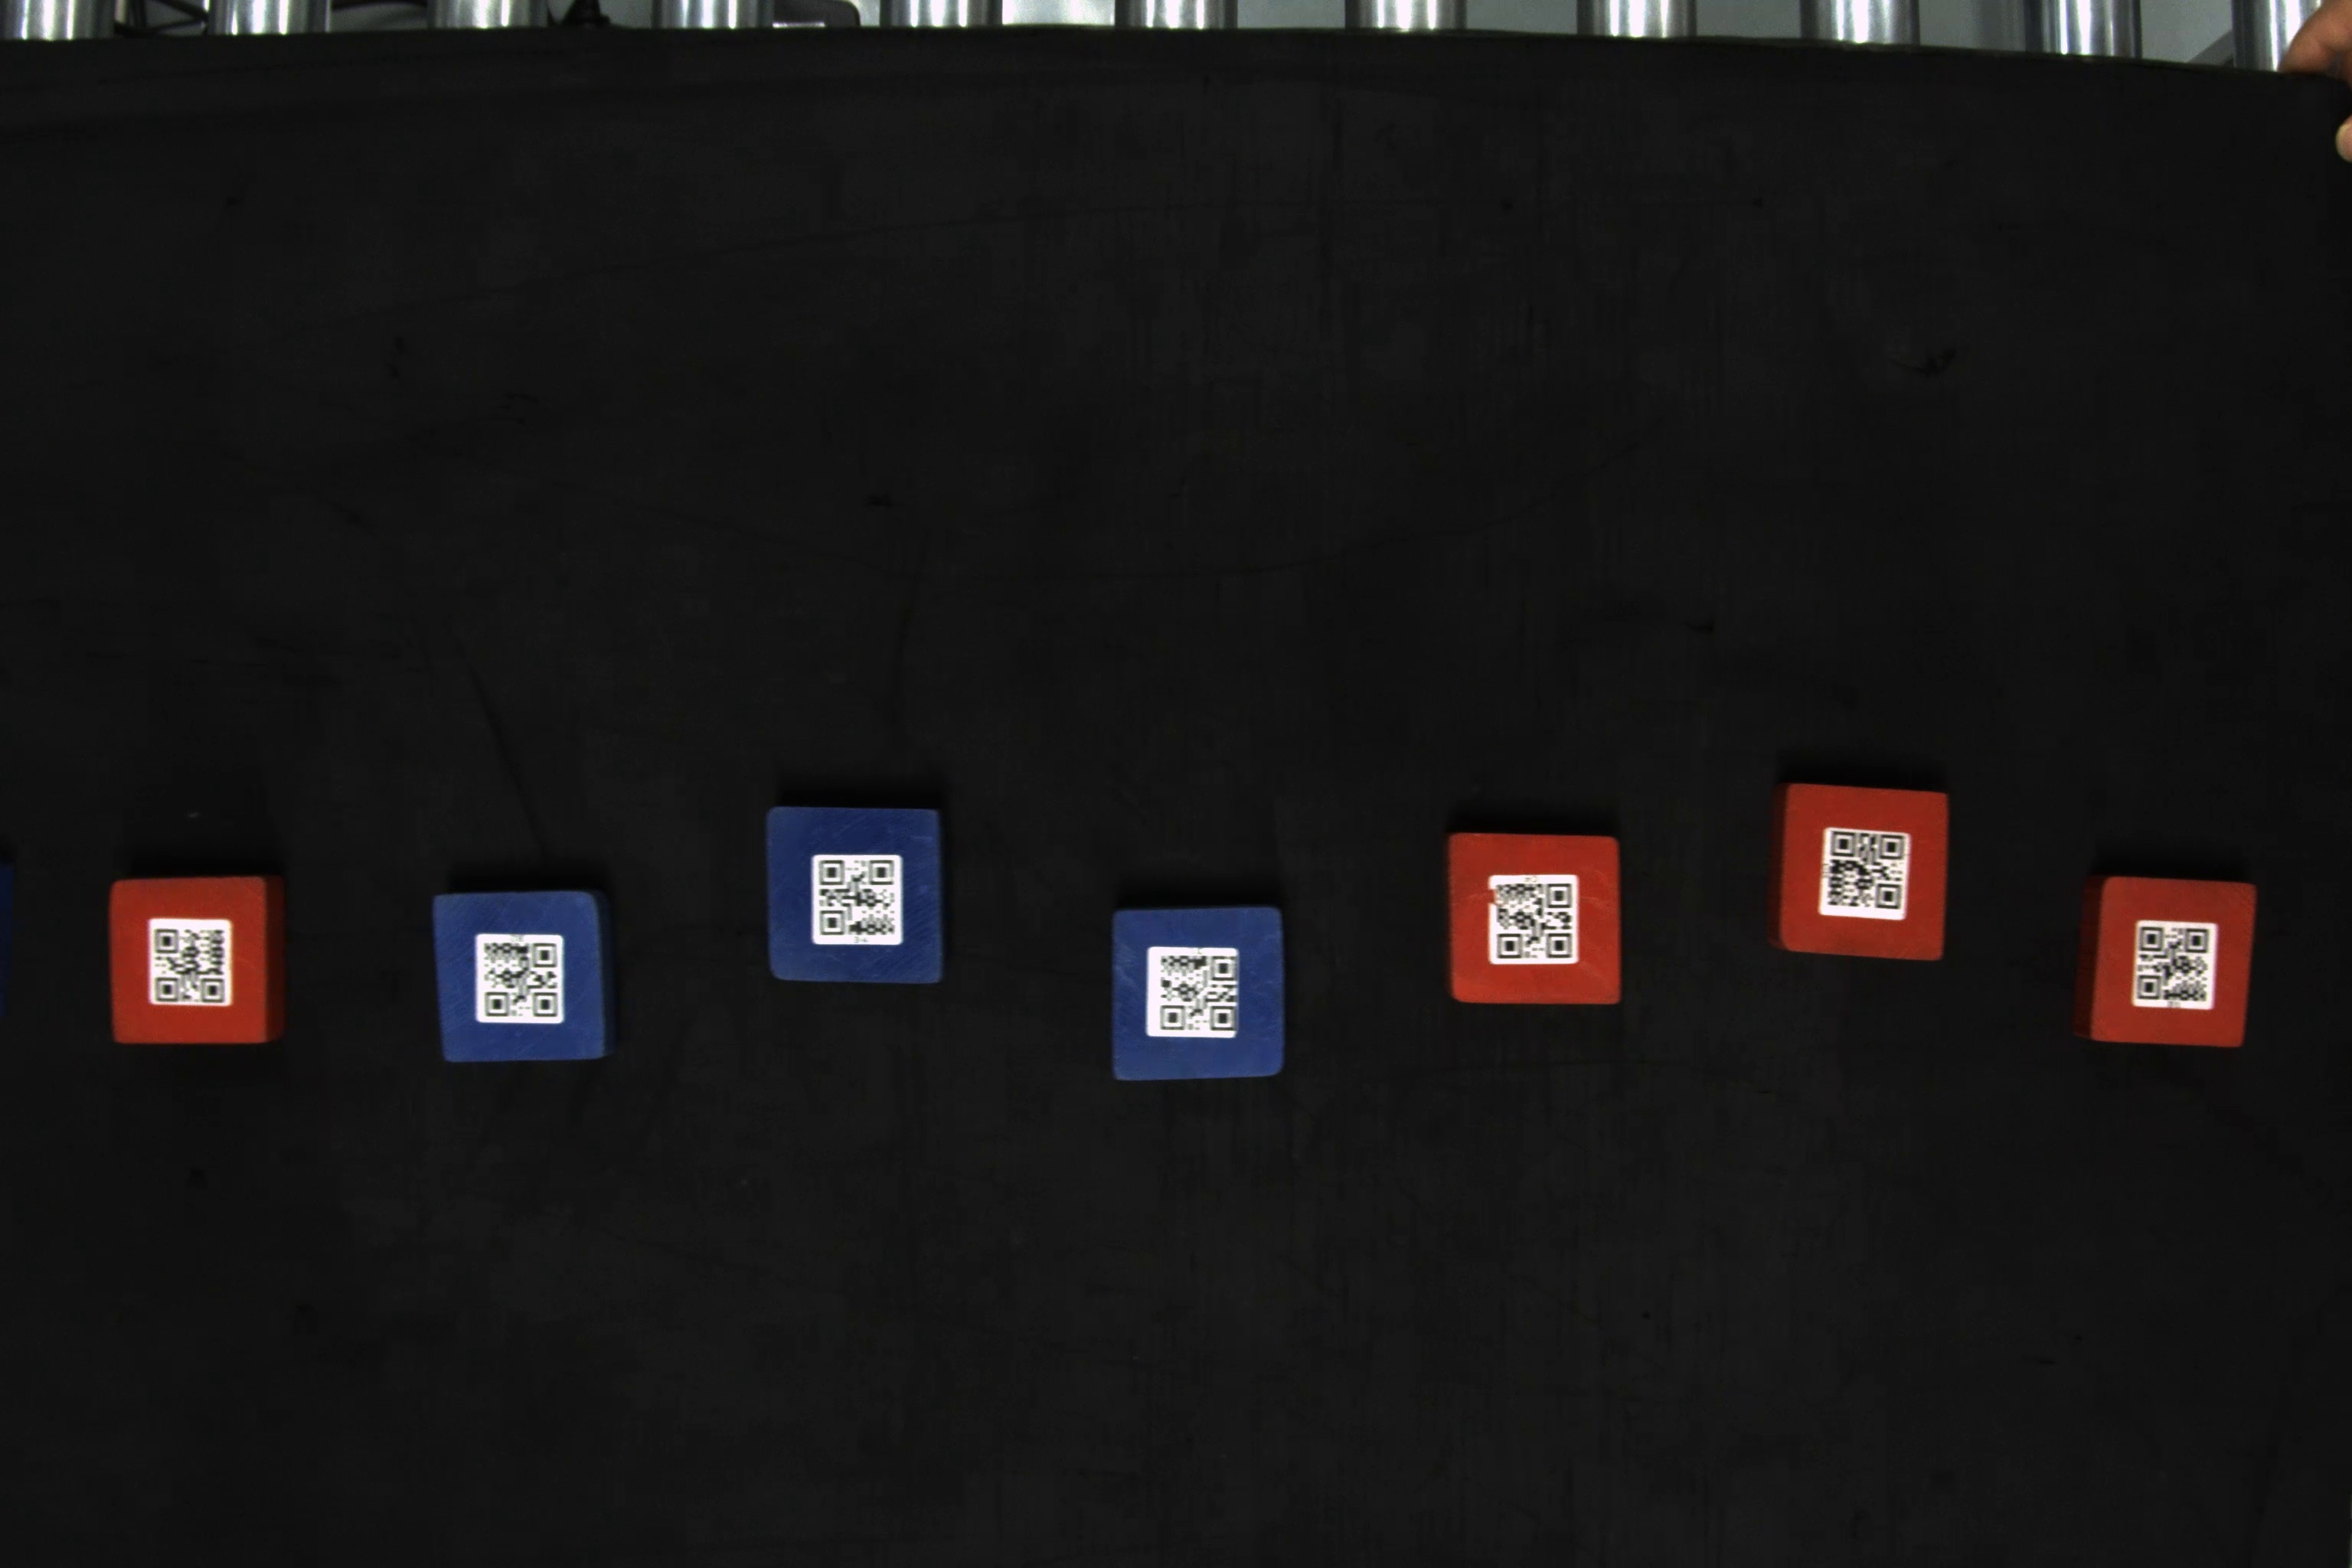wood: (423, 887, 623, 1078), (1764, 777, 1956, 968), (758, 801, 952, 989), (1433, 826, 1629, 1011), (1104, 901, 1291, 1087), (98, 877, 297, 1050), (2075, 875, 2268, 1053)
